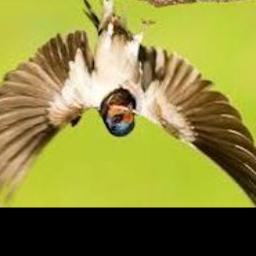Swallow: (0, 0, 256, 208)
